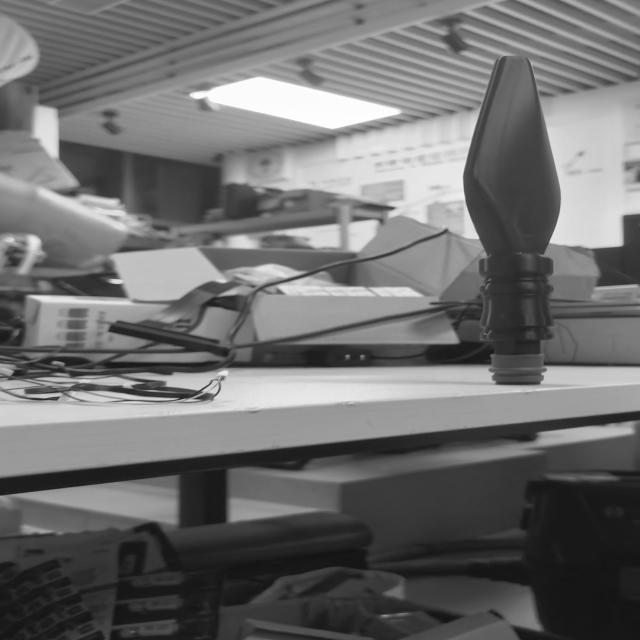base: (486, 350, 551, 387)
